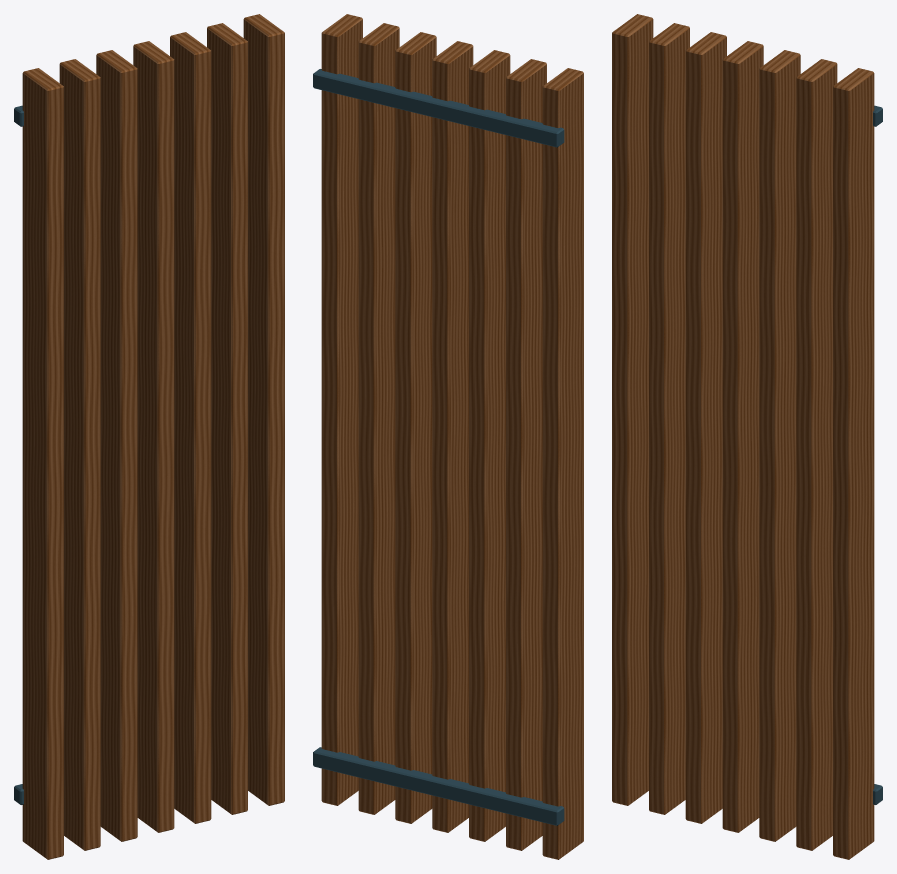
The model's file is fin-screen-1m.glb.
3 renders of one model, left to right at view 1: azimuth 30°, elevation 25°; view 2: azimuth 150°, elevation 25°; view 3: azimuth 330°, elevation 25°, orthographic.
Visible parts, largest first — view 1: fin-screen-1m; view 2: fin-screen-1m; view 3: fin-screen-1m.
Part boxes in pixels (x1,y1,x2,y2): fin-screen-1m: [14, 14, 284, 859]; fin-screen-1m: [313, 14, 583, 859]; fin-screen-1m: [612, 14, 882, 859].
Bounding box in the file's own units: 1 × 3 × 0.215.
2 materials, 1 textured.
